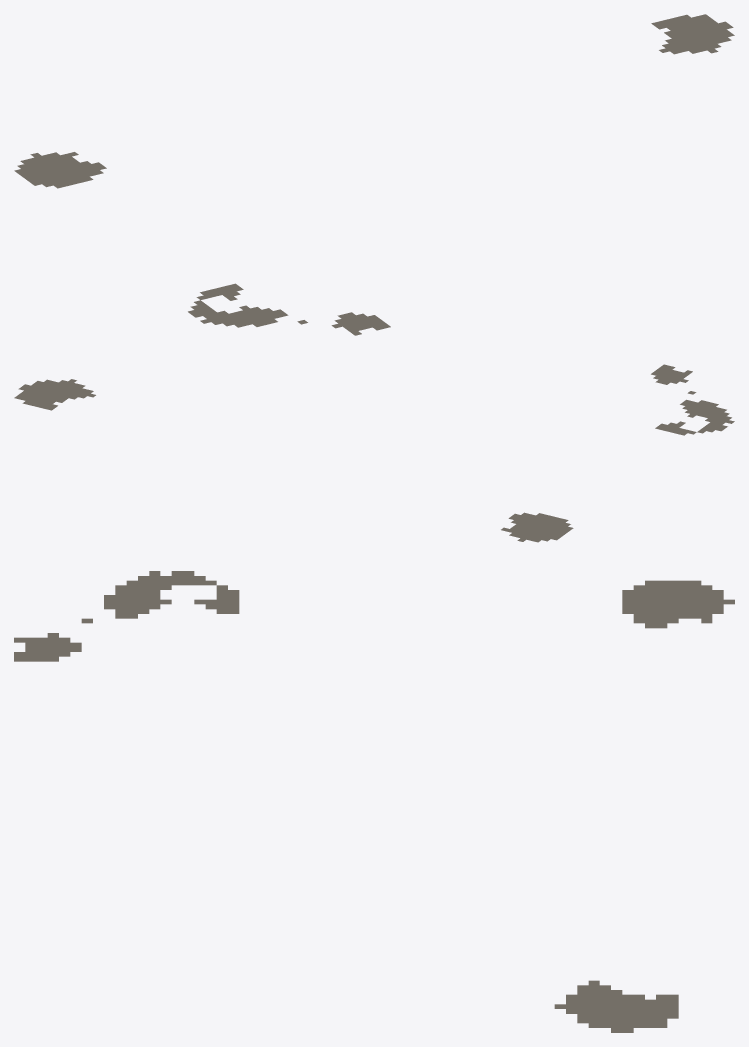
The model's file is Isl-bot2-RocksArea.fbx.
3 renders of one model, top to bottom at view 1: azimuth 30°, elevation 25°; view 2: azimuth 150°, elevation 25°; view 3: azimuth 270°, elevation 25°, orthographic. The views are drawn at different scales.
Visible parts, largest first — view 1: Isl-bot2-RocksArea; view 2: Isl-bot2-RocksArea; view 3: Isl-bot2-RocksArea.
Part boxes in pixels (x1,y1,x2,y2): Isl-bot2-RocksArea: [14, 14, 734, 335]; Isl-bot2-RocksArea: [14, 364, 734, 542]; Isl-bot2-RocksArea: [14, 571, 734, 1032].
Size of the model in its own units: 97 by 0 by 64.
